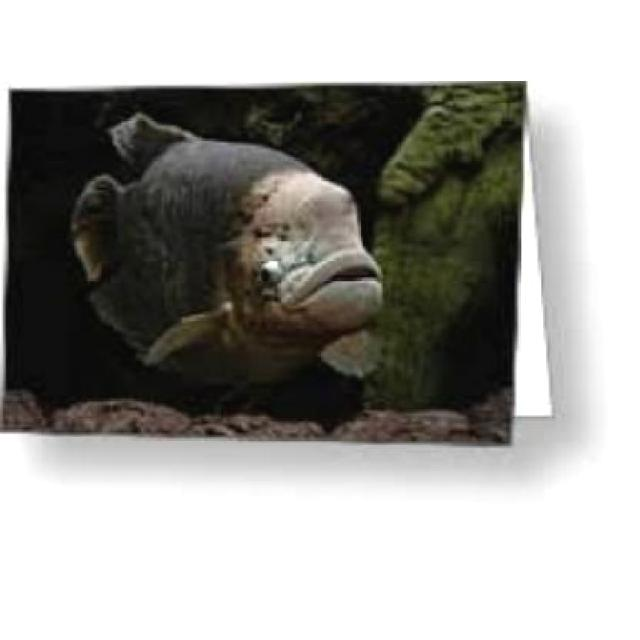gurame: (76, 120, 376, 378)
